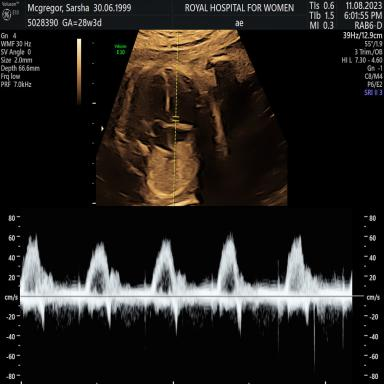Ultrasound-Waves: (26, 215, 354, 384)
